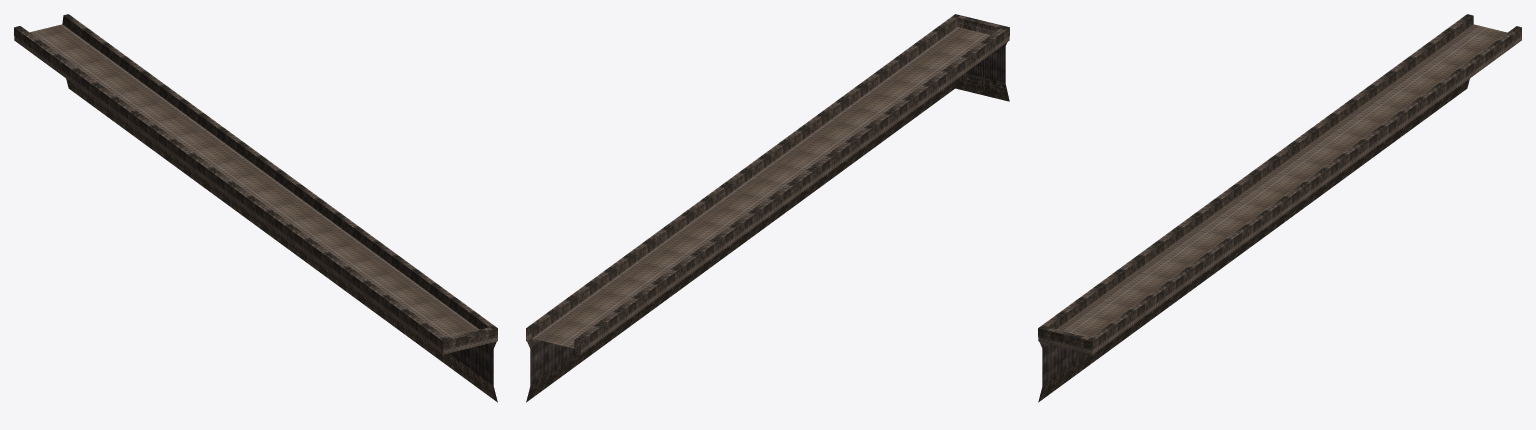
Rendered from components_city_wallsc2.glb.
The picture shows the model from 3 angles, left to right: view 1: azimuth 30°, elevation 25°; view 2: azimuth 150°, elevation 25°; view 3: azimuth 330°, elevation 25°; orthographic projection.
Visible parts, largest first — view 1: city_wallsc2; view 2: city_wallsc2; view 3: city_wallsc2.
Boxes of the visible parts, x1,y1,x2,y2 form: city_wallsc2: [14, 14, 497, 402]; city_wallsc2: [526, 14, 1009, 402]; city_wallsc2: [1038, 14, 1521, 402].
Size of the model in its own units: 13.03 by 17 by 178.
Materials: 3 (3 with a texture image).
